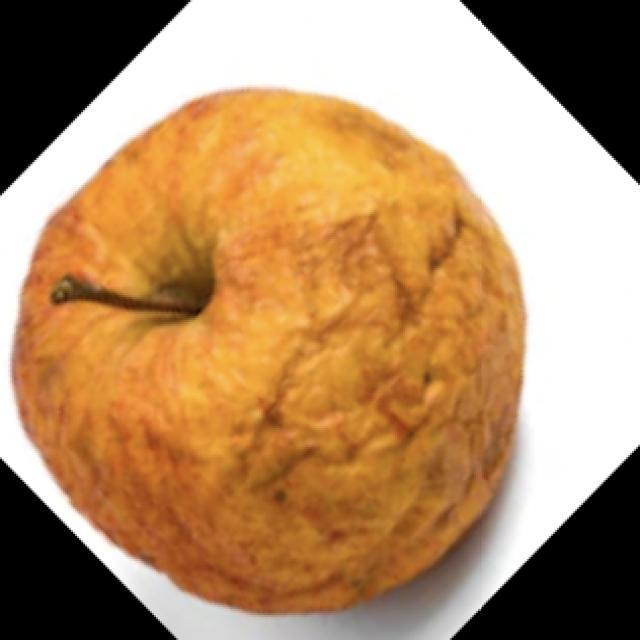Rotten: (23, 80, 530, 640)
